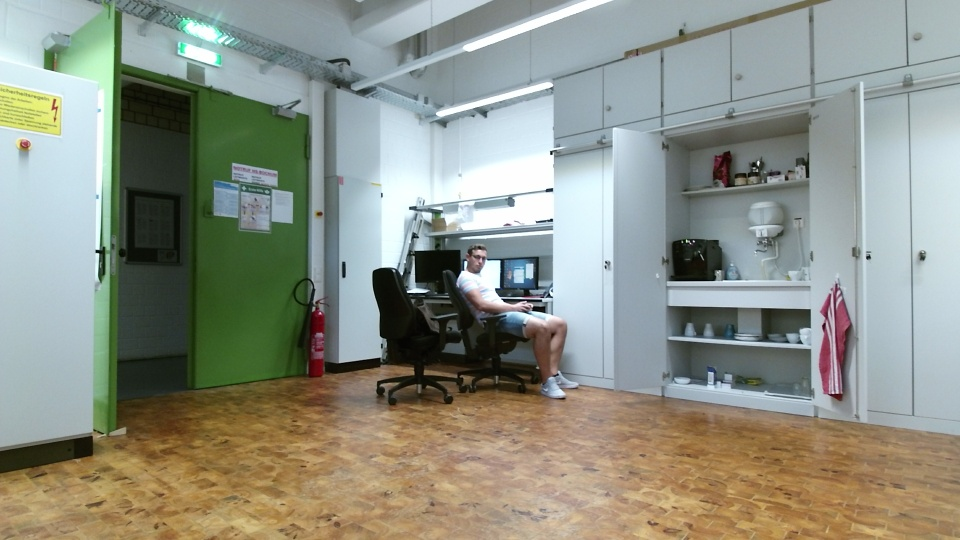person: (446, 240, 585, 409)
